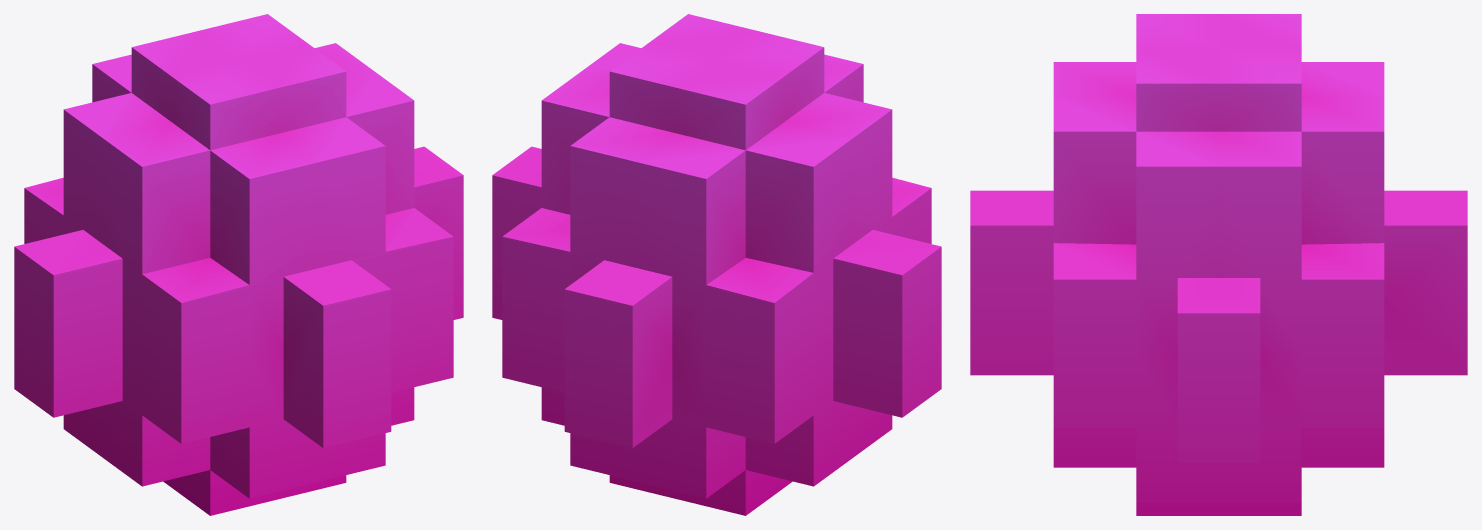
Rendered from Egg Rare.fbx.
The picture shows the model from 3 angles, left to right: view 1: azimuth 30°, elevation 25°; view 2: azimuth 150°, elevation 25°; view 3: azimuth 270°, elevation 25°; orthographic projection. The views are drawn at different scales.
Parts seen in each view (by area): view 1: Egg Rare; view 2: Egg Rare; view 3: Egg Rare.
Part boxes in pixels (x1,y1,x2,y2): Egg Rare: (14,14,463,515); Egg Rare: (492,14,941,515); Egg Rare: (970,14,1467,515).
Size of the model in its own units: 1.62 by 1.55 by 1.62.
